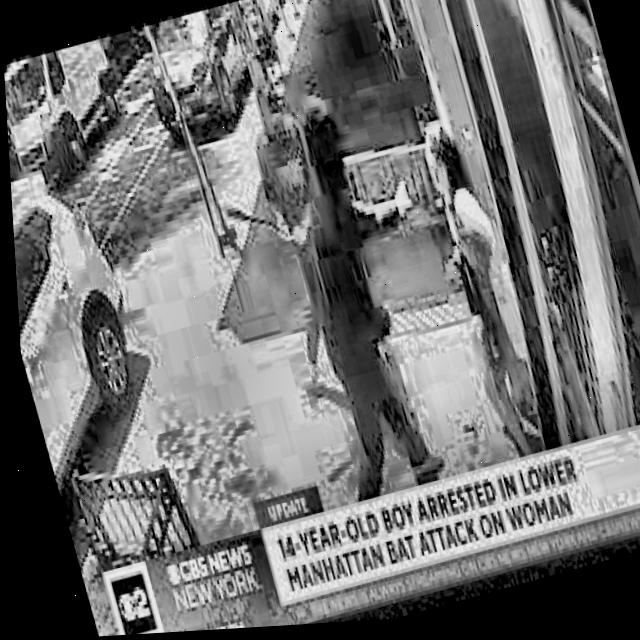robbery: (210, 68, 534, 501)
